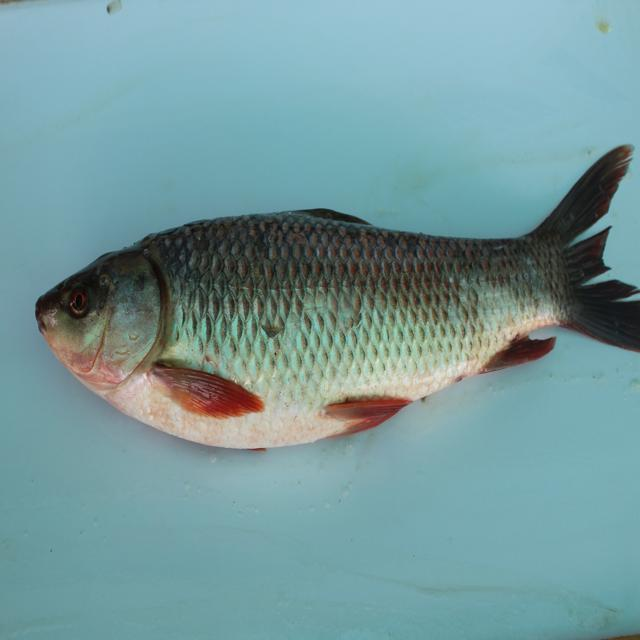Rohu: (45, 165, 626, 465)
